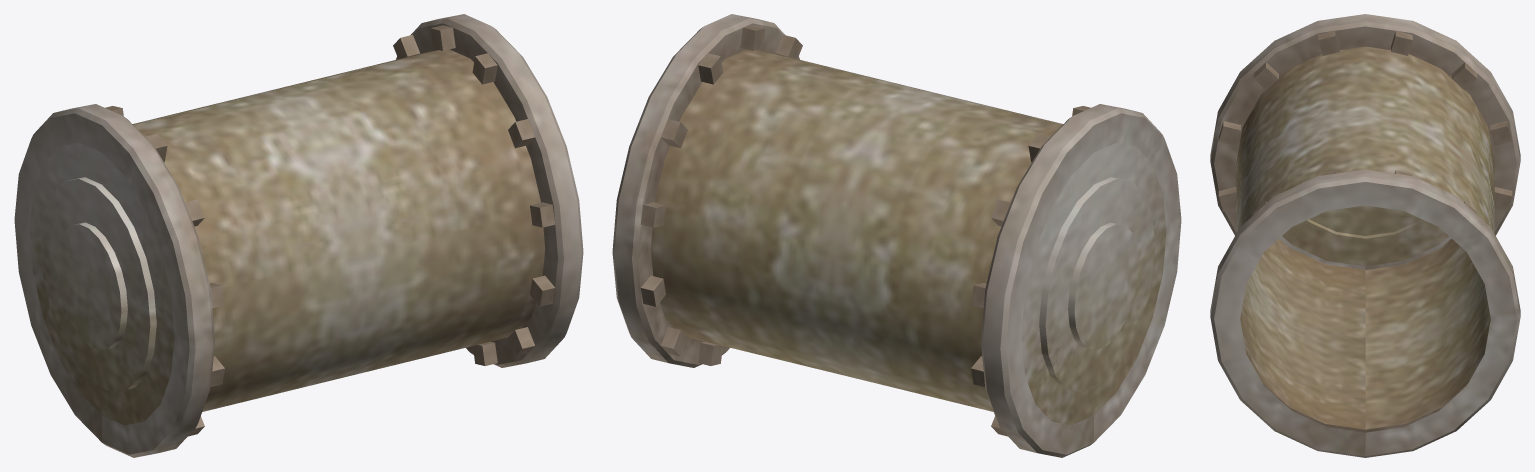
File: pipe-ending-right.glb
The picture shows the model from 3 angles, left to right: view 1: azimuth 30°, elevation 25°; view 2: azimuth 150°, elevation 25°; view 3: azimuth 270°, elevation 25°; orthographic projection. The views are drawn at different scales.
Parts seen in each view (by area): view 1: body; view 2: body; view 3: body.
Boxes of the visible parts, x1=… form: body: x1=14, y1=14, x2=583, y2=457; body: x1=612, y1=14, x2=1181, y2=457; body: x1=1210, y1=14, x2=1520, y2=457.
Size of the model in its own units: 0.99 by 0.756 by 0.756.
Materials: 1 (1 with a texture image).
